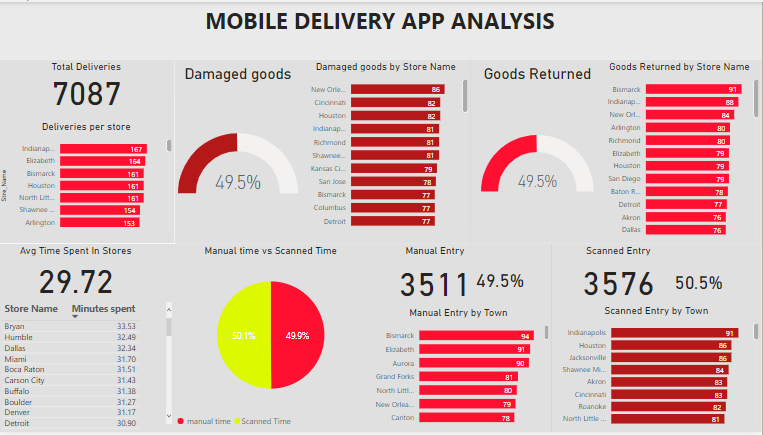

This screenshot's page, from the dashboard's own definition file:
{"tool":"powerbi","page":{"name":"Page 4","canvas":[1280,720],"ordinal":2},"visuals":[{"type":"textbox","box":[0,0,1280,97.4],"z":0},{"type":"shape","box":[0,97.4,295.6,307.4],"z":1000},{"type":"card","title":"Total Deliveries","fields":{"Values":["not damaged %.total deliveries"]},"box":[0,97.4,295.6,80.6],"z":2000},{"type":"barChart","title":"Deliveries per store","fields":{"Category":["Stre.Stre_Name"],"Y":["not damaged %.total deliveries"]},"box":[0,198.2,295.6,193.2],"z":3000},{"type":"shape","box":[0,404.8,619.8,315.8],"z":4000},{"type":"card","title":"Avg Time Spent In Stores","fields":{"Values":["Avg(Delivery.minutes interval)"]},"box":[0,404.8,260.4,92.4],"z":5000},{"type":"tableEx","fields":{"Values":["Stre.Stre_Name","Avg(Delivery.minutes interval)"]},"box":[0,497.2,295.6,223.4],"z":6000},{"type":"pieChart","title":" Manual time vs Scanned Time","fields":{"Y":["not damaged %.avg manual time","not damaged %.avg time scanning"]},"box":[295.6,404.8,324.2,315.8],"z":7000},{"type":"shape","box":[619.1,404.9,307.9,316.2],"z":8000},{"type":"card","title":"Manual Entry","fields":{"Values":["not damaged %.total manual entry"]},"box":[620.8,404.9,220.9,103.7],"z":9000},{"type":"card","fields":{"Values":["not damaged %.% manual entry"]},"box":[741.2,404.9,200.8,120.5],"z":10000},{"type":"barChart","title":"Manual Entry by Town","fields":{"Category":["Stre.Stre_Name"],"Y":["not damaged %.total manual entry"]},"box":[614.1,508.7,312.9,210.8],"z":11000},{"type":"shape","box":[927,404.9,353,314.6],"z":12000},{"type":"card","title":"Scanned Entry","fields":{"Values":["not damaged %.total scanned"]},"box":[942,404.9,195.8,100.4],"z":13000},{"type":"card","fields":{"Values":["not damaged %.% scaned entry"]},"box":[1067.5,404.9,212.5,127.2],"z":14000},{"type":"barChart","title":"Scanned Entry by Town","fields":{"Y":["not damaged %.total scanned"],"Category":["Stre.Stre_Name"]},"box":[927,505.3,353,214.2],"z":15000},{"type":"shape","box":[296.2,97,495.3,307.9],"z":16000},{"type":"shape","box":[791.4,97,488.6,307.9],"z":17000},{"type":"gauge","title":"Damaged goods","fields":{"Y":["not damaged %.% of damaged goods"]},"box":[296.2,105.4,210.8,299.5],"z":18000},{"type":"barChart","title":"Damaged goods by Store Name","fields":{"Y":["not damaged %.no of damaged labels"],"Category":["Stre.Stre_Name"]},"box":[507,97,284.4,292.8],"z":19000},{"type":"gauge","title":"Goods Returned","fields":{"Y":["not damaged %.% returns"]},"box":[804.8,105.4,199.1,299.5],"z":20000},{"type":"barChart","title":"Goods Returned by Store Name","fields":{"Y":["not damaged %.returns collected"],"Category":["Stre.Stre_Name"]},"box":[1003.6,97.2,276.4,306.6],"z":21000}]}

Visuals, with their boxes in screenshot pixels (x1, y1, x2, y2), scaled from the page's 1280x720 canvas onto the 763x435 screenshot:
textbox: l=0, t=0, r=762, b=59
shape: l=0, t=59, r=176, b=245
"Total Deliveries" card: l=0, t=59, r=176, b=108
"Deliveries per store" barChart: l=0, t=120, r=176, b=236
shape: l=0, t=245, r=369, b=434
"Avg Time Spent In Stores" card: l=0, t=245, r=155, b=300
tableEx - Stre.Stre_Name x Avg(Delivery.minutes interval): l=0, t=300, r=176, b=434
" Manual time vs Scanned Time" pieChart: l=176, t=245, r=369, b=434
shape: l=369, t=245, r=553, b=434
"Manual Entry" card: l=370, t=245, r=502, b=307
card - not damaged %.% manual entry: l=442, t=245, r=562, b=317
"Manual Entry by Town" barChart: l=366, t=307, r=553, b=434
shape: l=553, t=245, r=762, b=434
"Scanned Entry" card: l=562, t=245, r=678, b=305
card - not damaged %.% scaned entry: l=636, t=245, r=762, b=321
"Scanned Entry by Town" barChart: l=553, t=305, r=762, b=434
shape: l=177, t=59, r=472, b=245
shape: l=472, t=59, r=762, b=245
"Damaged goods" gauge: l=177, t=64, r=302, b=245
"Damaged goods by Store Name" barChart: l=302, t=59, r=472, b=236
"Goods Returned" gauge: l=480, t=64, r=598, b=245
"Goods Returned by Store Name" barChart: l=598, t=59, r=762, b=244
